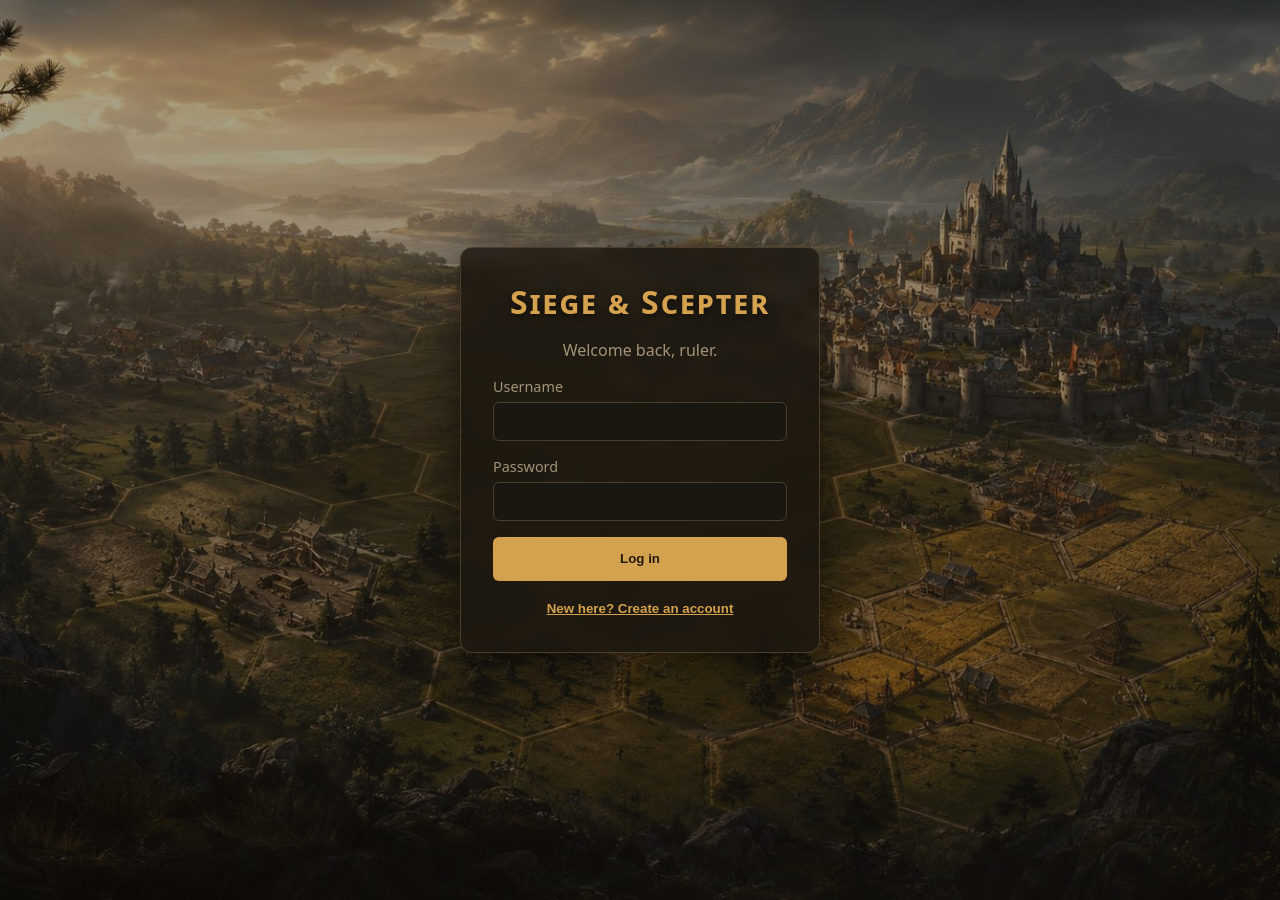
AuthForm › toggles to register mode and back
Click the button "New here? Create an account" at (640, 608), box x1=493 y1=597 x2=787 y2=620
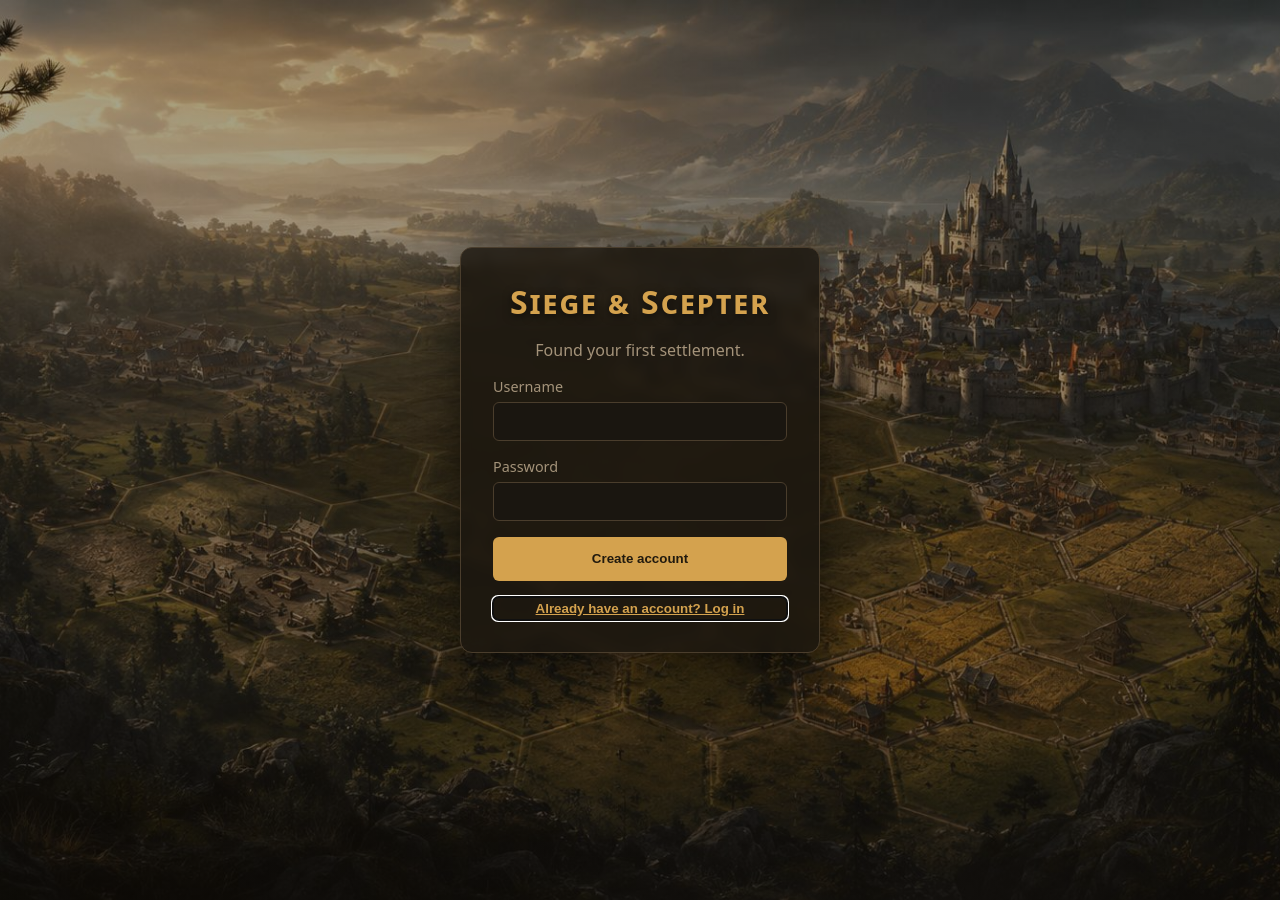
Expected: the button "Create account" is shown, x1=493 y1=537 x2=787 y2=581
Expected: the text "Found your first settlement." is shown, x1=535 y1=339 x2=745 y2=361
Click the button "Already have an account? Log in" at (640, 608), box x1=493 y1=597 x2=787 y2=620
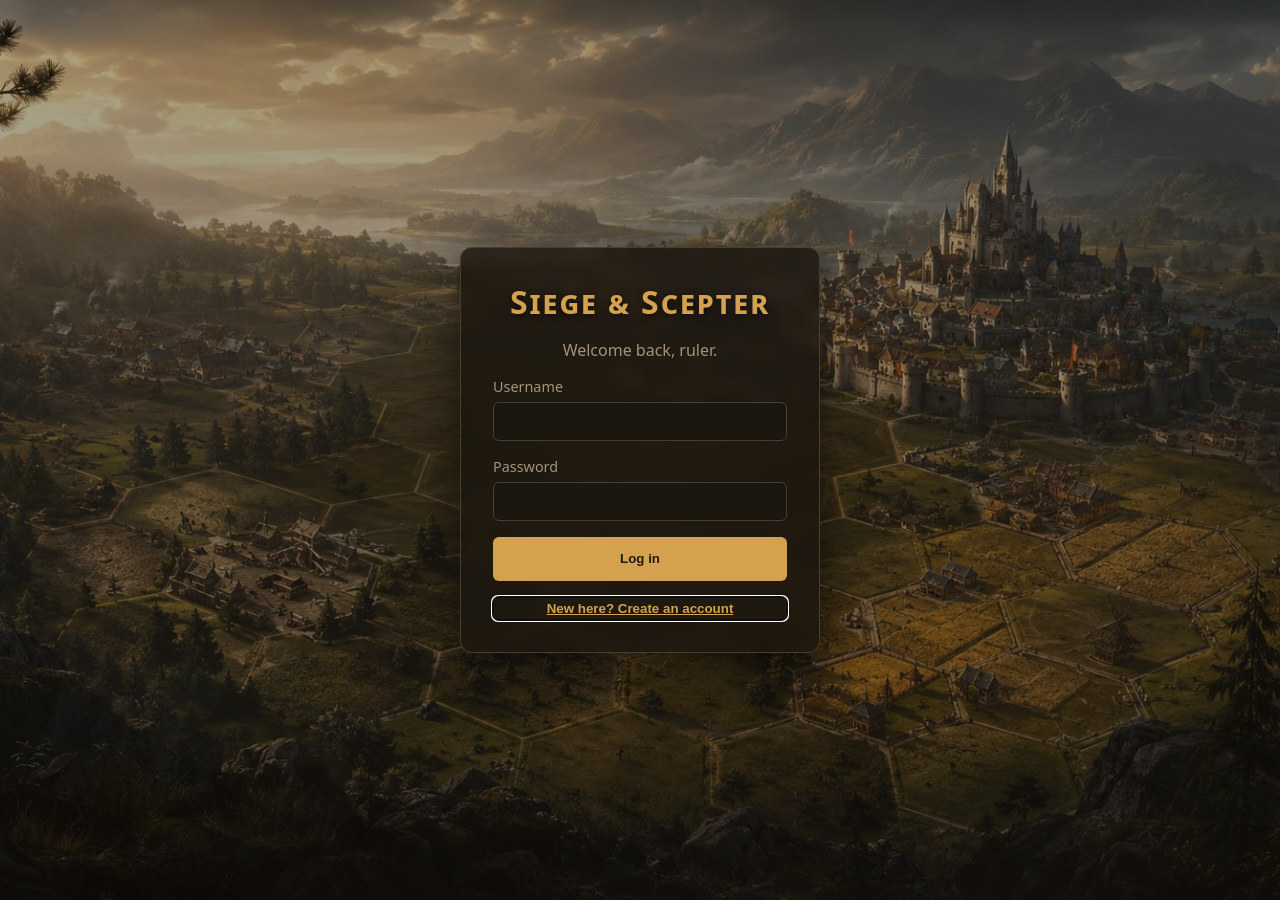
Expected: the button "Log in" is shown, x1=493 y1=537 x2=787 y2=581
